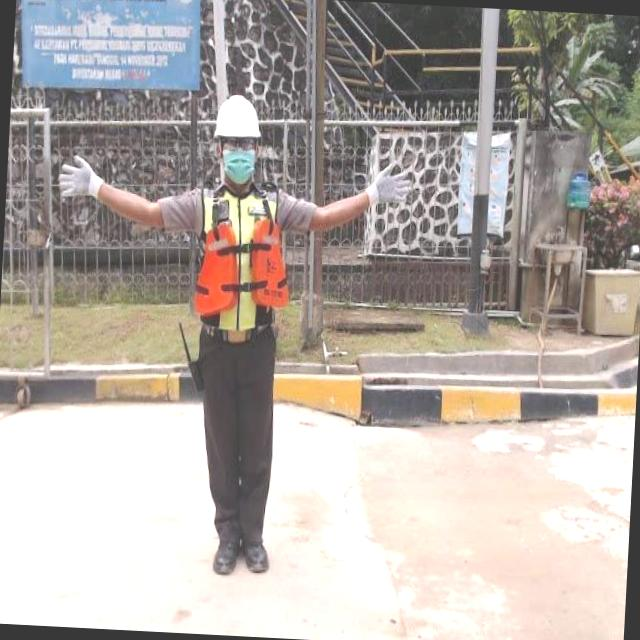boots: (240, 528, 274, 578), (211, 528, 243, 579)
gloves: (48, 145, 101, 218), (368, 147, 421, 218)
helmet: (214, 96, 264, 142)
vest: (190, 182, 298, 336)
